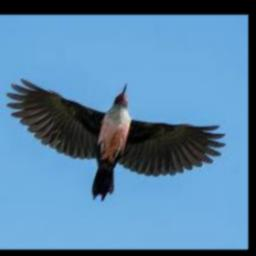Woodpecker: (7, 79, 225, 201)
